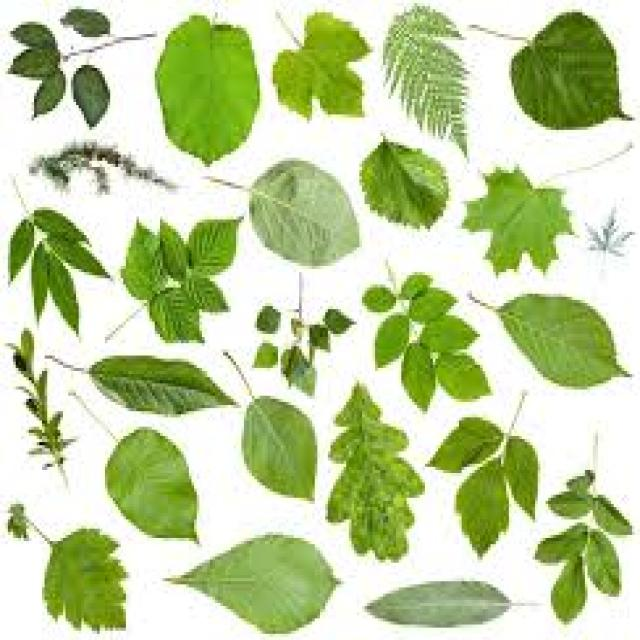leaves: (328, 386, 424, 559), (171, 538, 338, 633), (156, 16, 259, 164), (125, 222, 238, 342), (511, 13, 624, 127), (382, 6, 468, 155), (10, 209, 109, 332), (499, 295, 628, 387), (464, 168, 572, 272), (250, 161, 359, 264), (274, 13, 369, 117), (105, 429, 196, 537), (89, 357, 234, 415), (44, 529, 126, 630), (361, 139, 449, 228), (242, 399, 312, 497), (366, 581, 510, 627), (456, 458, 509, 555), (430, 418, 502, 472), (504, 436, 538, 518), (189, 220, 238, 273), (551, 555, 586, 623), (439, 354, 490, 400), (72, 65, 110, 126), (401, 343, 435, 410), (421, 315, 478, 351), (588, 530, 618, 595), (538, 525, 584, 562), (409, 287, 456, 322), (375, 317, 407, 366), (281, 348, 315, 394), (10, 49, 58, 77), (592, 499, 630, 534), (61, 9, 110, 36), (36, 69, 61, 116), (11, 25, 56, 48), (548, 495, 591, 518), (325, 309, 354, 334), (364, 290, 396, 312), (256, 305, 281, 332), (254, 343, 278, 368), (566, 470, 591, 493), (310, 326, 330, 350)
